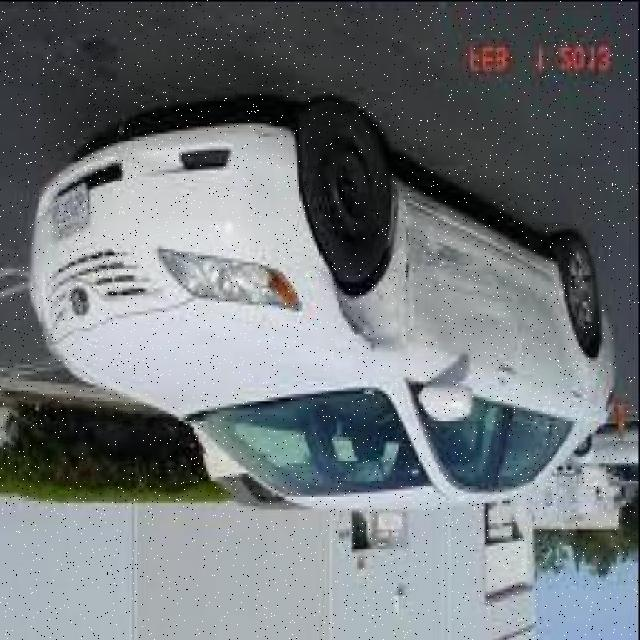damage: (340, 185, 520, 355)
